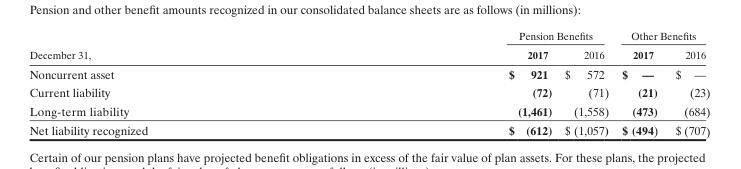table: (28, 28, 709, 137)
table column: (28, 28, 327, 137), (327, 28, 557, 137), (557, 28, 614, 137), (614, 28, 666, 137), (666, 28, 709, 137)
table column header: (28, 28, 709, 63)
table row: (28, 44, 709, 63), (28, 63, 709, 82), (28, 82, 709, 101), (28, 101, 709, 120), (28, 120, 709, 137), (28, 28, 709, 44)
table spanning cell: (28, 28, 327, 63), (327, 28, 614, 44), (614, 28, 709, 44)
